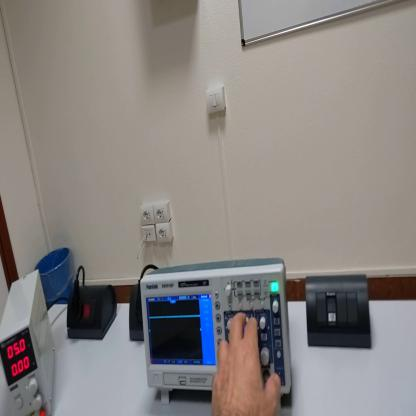hand: (212, 310, 280, 411)
oscilloscope: (140, 258, 293, 406)
power supply: (2, 269, 59, 415)
socket: (66, 286, 117, 342), (128, 287, 144, 342)
